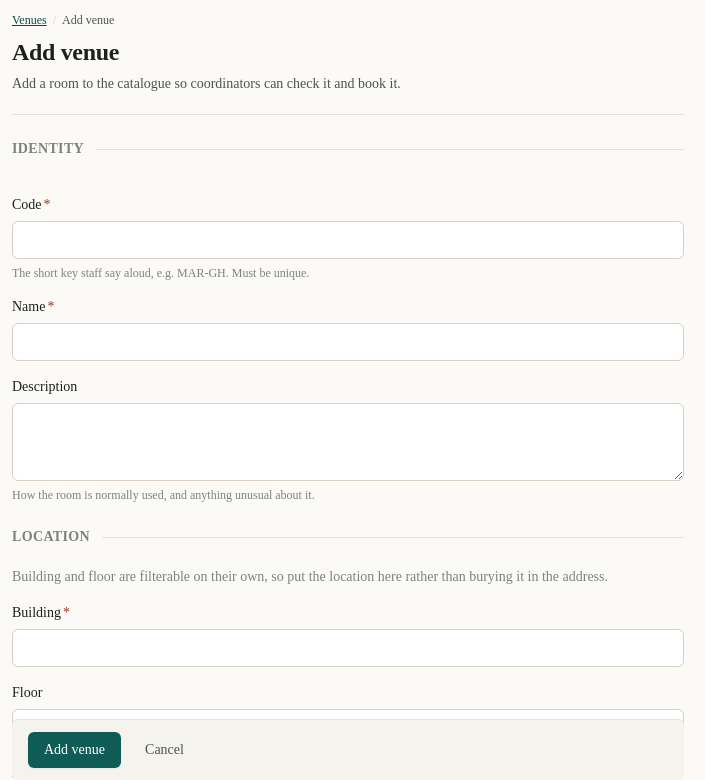
Test case: Add venue › what it refuses before sending › [SPM-39][AC1] an empty form: names each required field and focuses the first
The width and height of the screenshot is (705, 780).
Click the button "Add venue" at (74, 750), box [28,732,121,768]
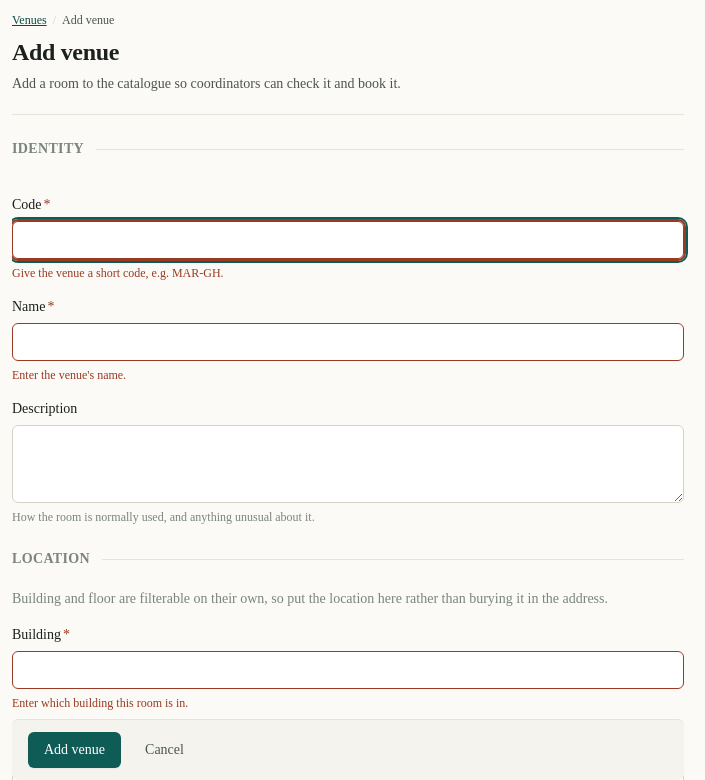
Now the text "Give the venue a short code, e.g. MAR-GH." is shown, box [12,266,224,280]
Now the text "Enter the venue's name." is shown, box [12,368,126,382]
Now the text "Enter which building this room is in." is shown, box [12,696,188,710]
